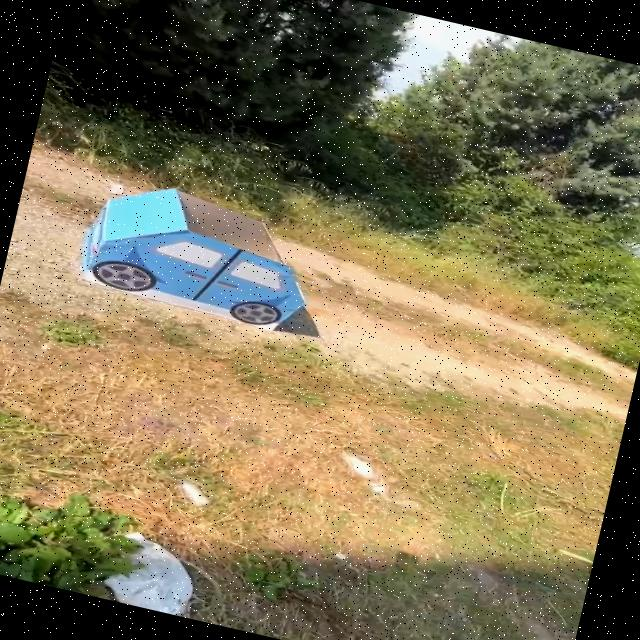blue_car: (51, 155, 347, 361)
